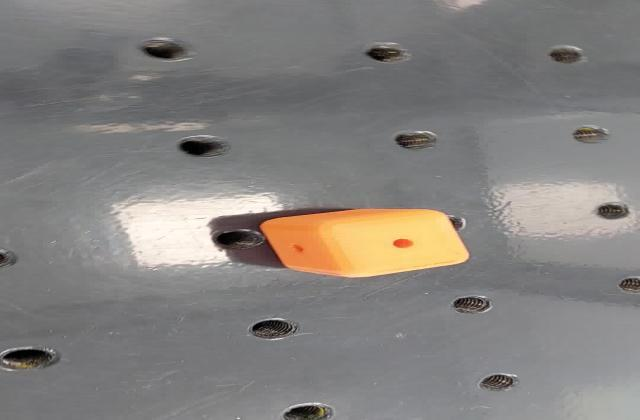cube: (254, 205, 476, 280)
